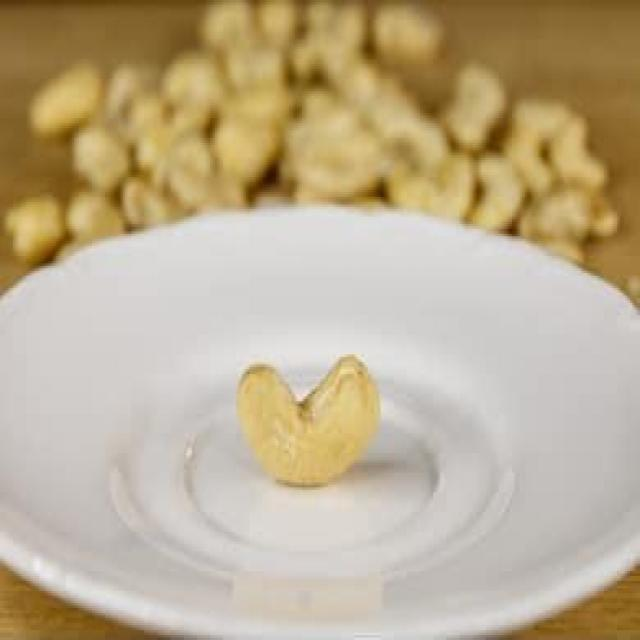Cashew: (209, 334, 412, 500)
